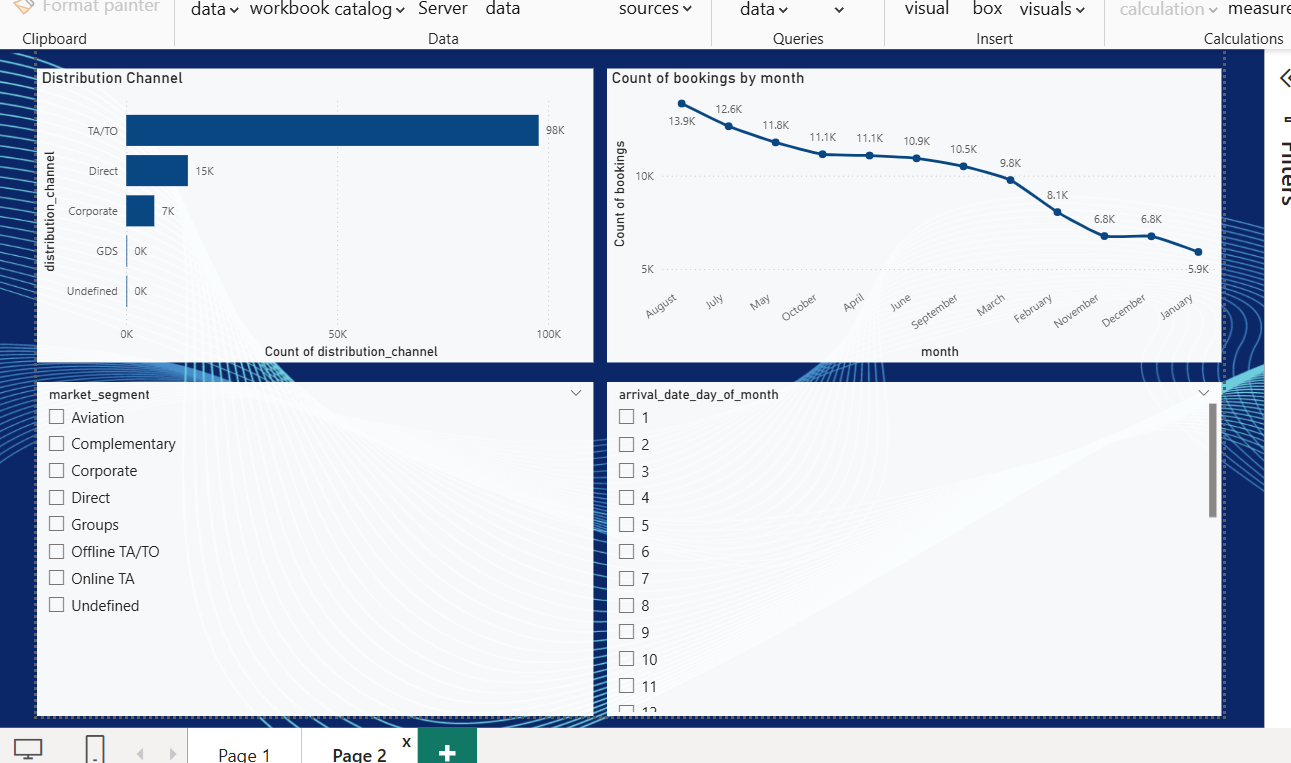

The dashboard page shown, as its layout file describes it:
{"tool":"powerbi","page":{"name":"Page 2","canvas":[1280,720],"ordinal":1},"visuals":[{"type":"clusteredBarChart","title":"Distribution Channel","fields":{"Category":["cleaned_hotel_bookings.distribution_channel"],"Y":["CountNonNull(cleaned_hotel_bookings.distribution_channel)"]},"box":[0,20.8,600.9,317.5],"z":0},{"type":"lineChart","fields":{"Category":["cleaned_hotel_bookings.arrival_date_month"],"Y":["CountNonNull(cleaned_hotel_bookings.arrival_date_month_numeric)"]},"box":[616.1,20.8,663.3,317.5],"z":1000},{"type":"slicer","fields":{"Values":["bi_segment_churn.market_segment"]},"box":[0,359.1,600.9,360.9],"z":2000},{"type":"slicer","fields":{"Values":["cleaned_hotel_bookings.arrival_date_day_of_month"]},"box":[616.1,359.1,663.3,360.9],"z":3000}]}

Visuals, with their boxes on the page's 1280x720 design canvas (x1, y1, x2, y2). These are canvas units, not pixel positions in the 1291x763 screenshot, which may show the page scaled, cropped or inside an application window:
"Distribution Channel" clusteredBarChart: region(0, 21, 601, 338)
lineChart - cleaned_hotel_bookings.arrival_date_month x CountNonNull(cleaned_hotel_bookings.arrival_date_month_numeric): region(616, 21, 1279, 338)
slicer - bi_segment_churn.market_segment: region(0, 359, 601, 720)
slicer - cleaned_hotel_bookings.arrival_date_day_of_month: region(616, 359, 1279, 720)
